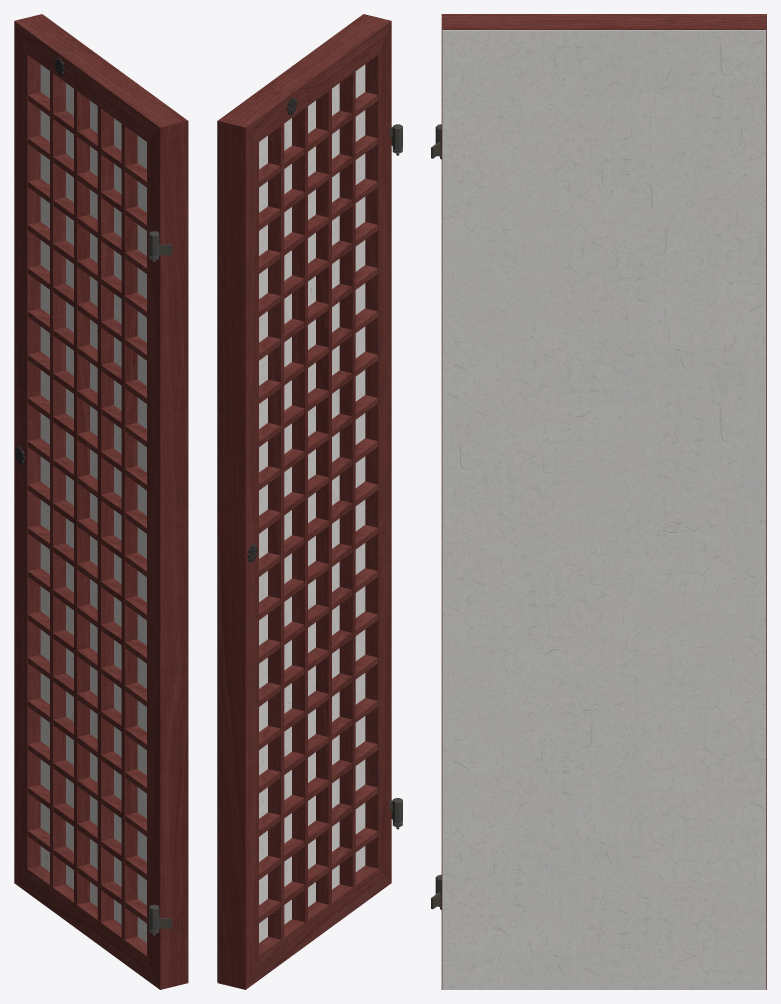
File: SM_Door10I.fbx
3 views of the same model, side by side, from view 1: azimuth 30°, elevation 25°; view 2: azimuth 150°, elevation 25°; view 3: azimuth 270°, elevation 25° (orthographic). The views are drawn at different scales.
Visible parts, largest first — view 1: SM_Door10I; view 2: SM_Door10I; view 3: SM_Door10I.
Boxes of the visible parts, bbox=[...] form: SM_Door10I: bbox=[14, 14, 188, 989]; SM_Door10I: bbox=[217, 14, 402, 989]; SM_Door10I: bbox=[431, 14, 766, 989].
Size of the model in its own units: 7.59 by 49.89 by 157.
1 material, 1 textured.
